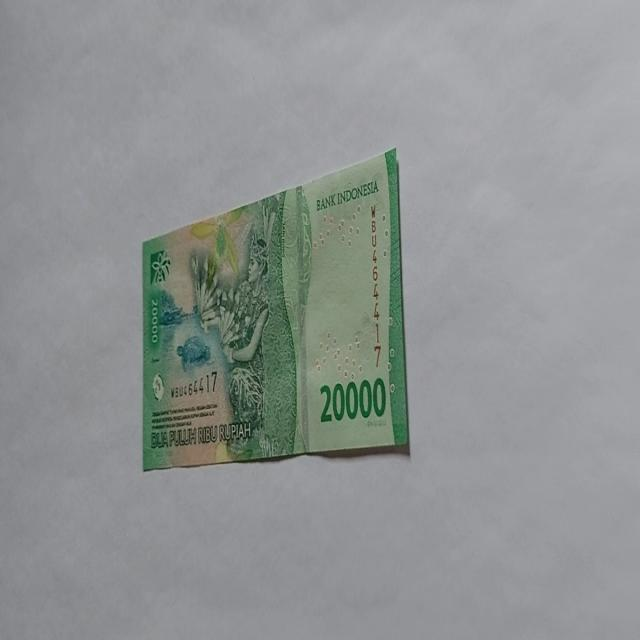dua puluh ribu rupiah: (140, 146, 410, 472), (187, 185, 313, 462)
